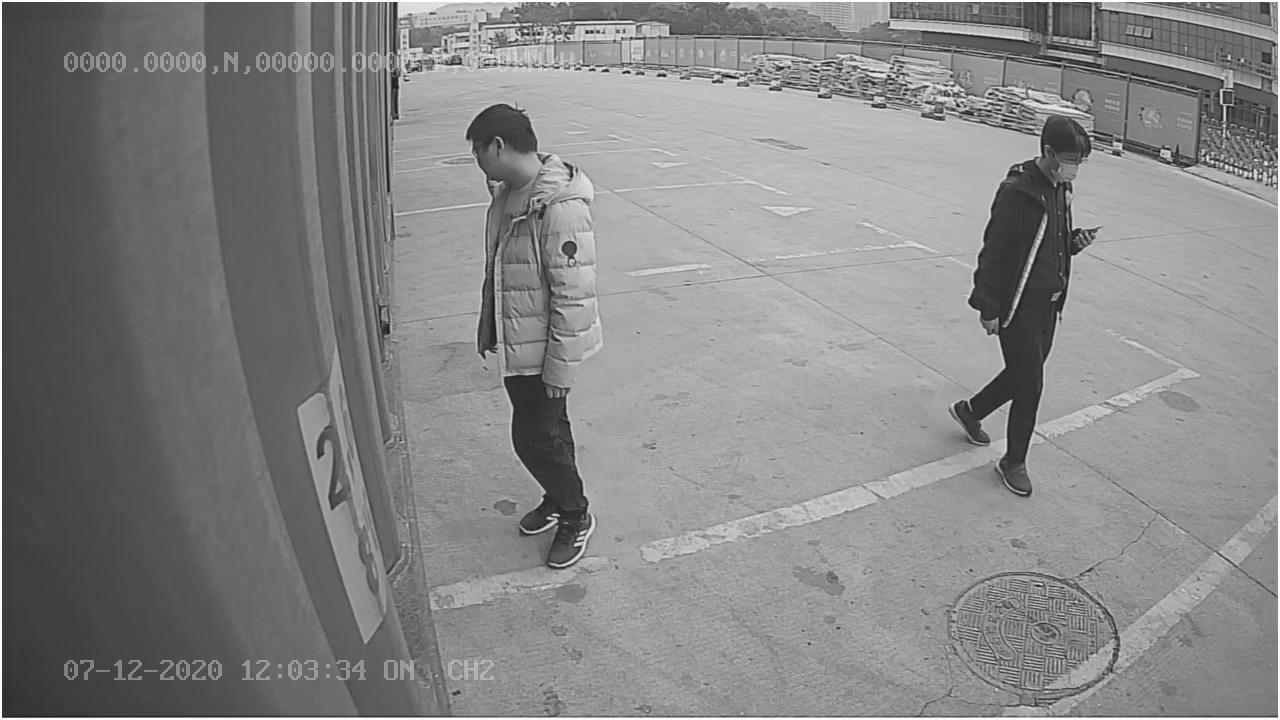person: (459, 103, 611, 570), (949, 107, 1091, 499)
